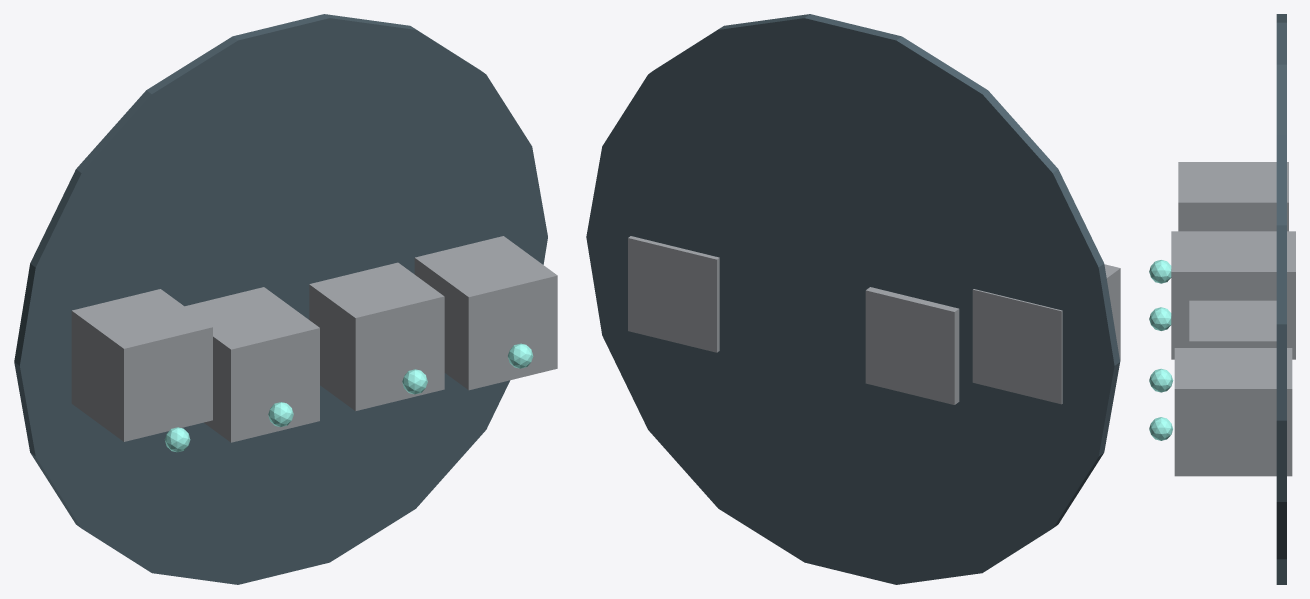
File: 02_local_prop_cluster.glb
3 renders of one model, left to right at view 1: azimuth 30°, elevation 25°; view 2: azimuth 150°, elevation 25°; view 3: azimuth 270°, elevation 25°, orthographic. The views are drawn at different scales.
Parts seen in each view (by area): view 1: scatter_base, tech_crate_0, tech_crate_2, tech_crate_3, tech_crate_1; view 2: scatter_base, tech_crate_0, tech_crate_1, tech_crate_3; view 3: tech_crate_3, tech_crate_1, tech_crate_0, scatter_base, tech_crate_2, status_light_2, status_light_3, status_light_0, status_light_1.
Boxes of the visible parts, bbox=[...] form: scatter_base: bbox=[14, 14, 547, 584]; tech_crate_0: bbox=[71, 289, 212, 441]; tech_crate_2: bbox=[309, 262, 444, 411]; tech_crate_3: bbox=[414, 236, 557, 390]; tech_crate_1: bbox=[185, 287, 319, 442]; scatter_base: bbox=[586, 14, 1120, 584]; tech_crate_0: bbox=[972, 264, 1120, 404]; tech_crate_1: bbox=[865, 287, 959, 404]; tech_crate_3: bbox=[628, 236, 719, 352]; tech_crate_3: bbox=[1174, 348, 1292, 476]; tech_crate_1: bbox=[1171, 231, 1295, 359]; tech_crate_0: bbox=[1178, 162, 1288, 231]; scatter_base: bbox=[1276, 14, 1286, 584]; tech_crate_2: bbox=[1189, 300, 1276, 347]; status_light_2: bbox=[1149, 368, 1173, 392]; status_light_3: bbox=[1149, 417, 1172, 440]; status_light_0: bbox=[1149, 260, 1171, 283]; status_light_1: bbox=[1149, 307, 1171, 330].
Size of the model in its own units: 1.9 by 1.87 by 0.4865.
